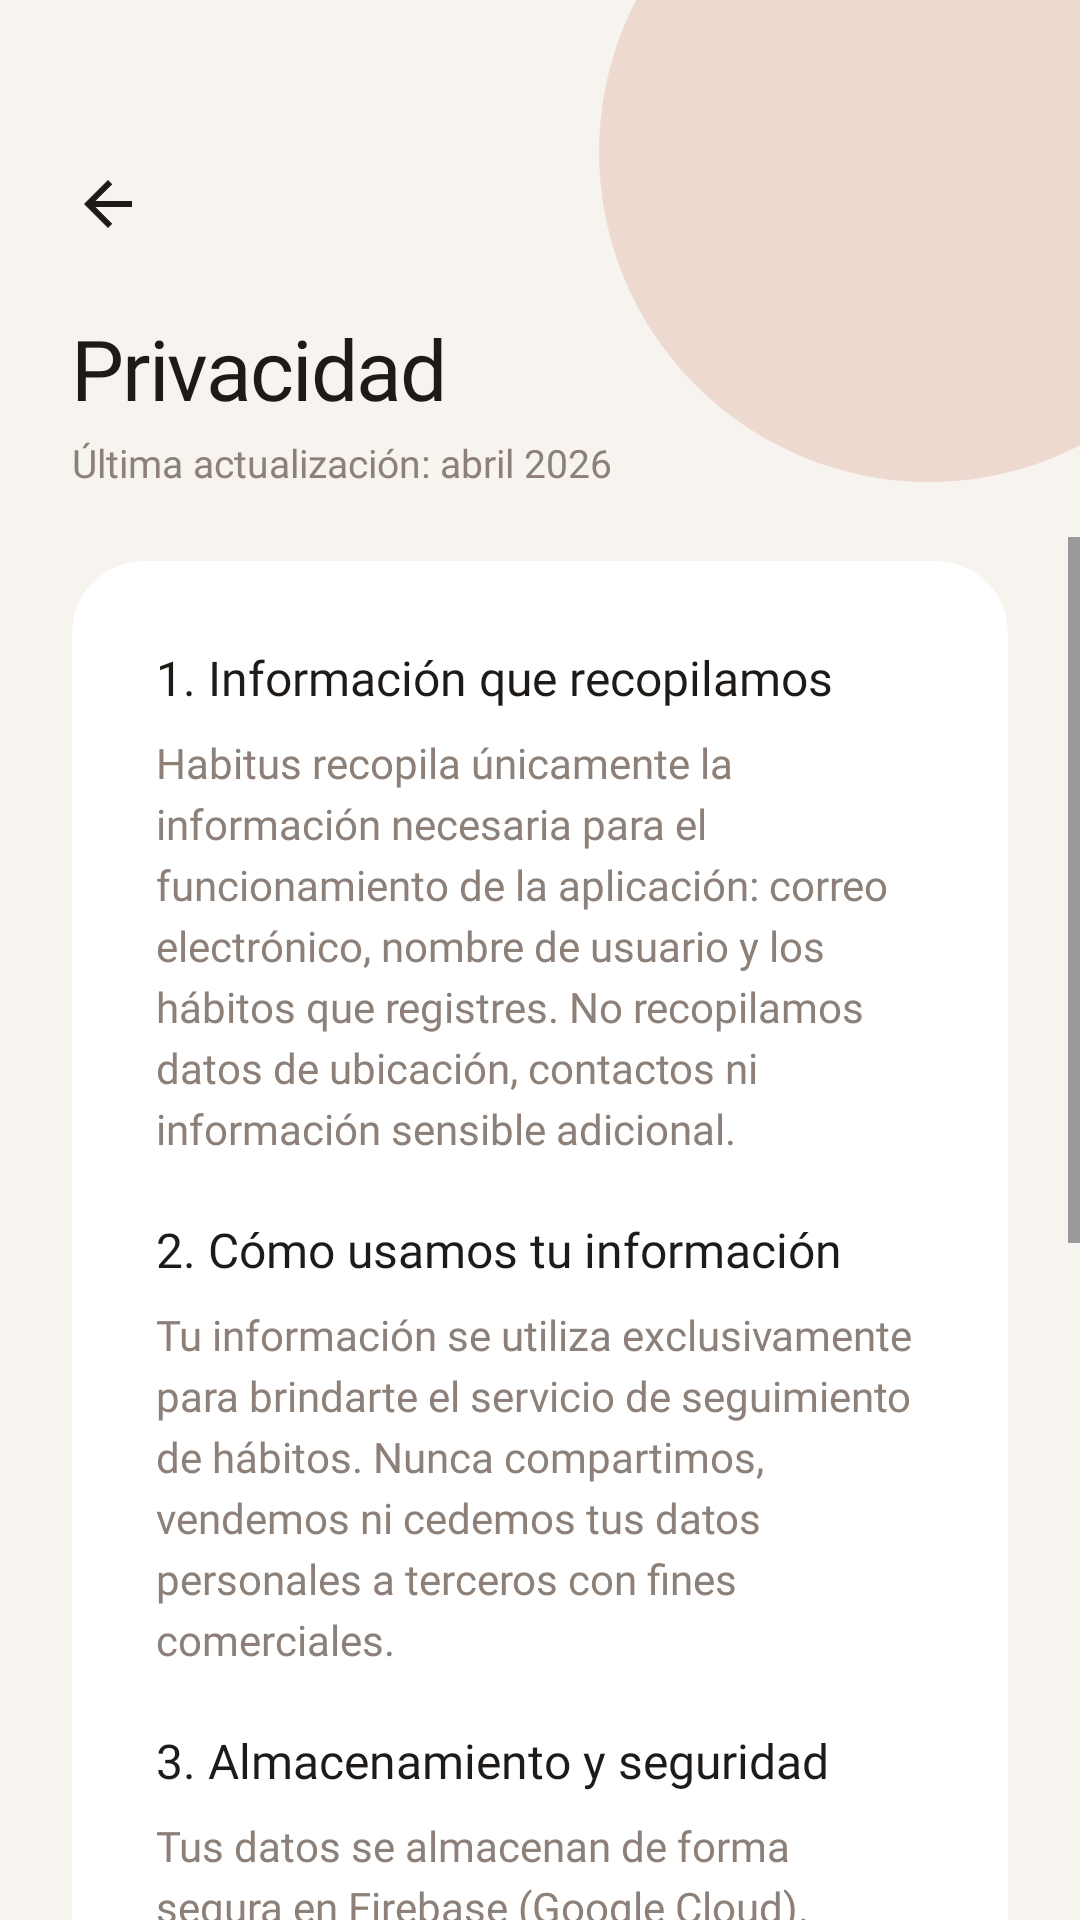

Named icons in this screenshot (1080px×1920px) and their bounding boxes, (x1, y1, x2, y2):
Regresar: (84, 180, 132, 228)
